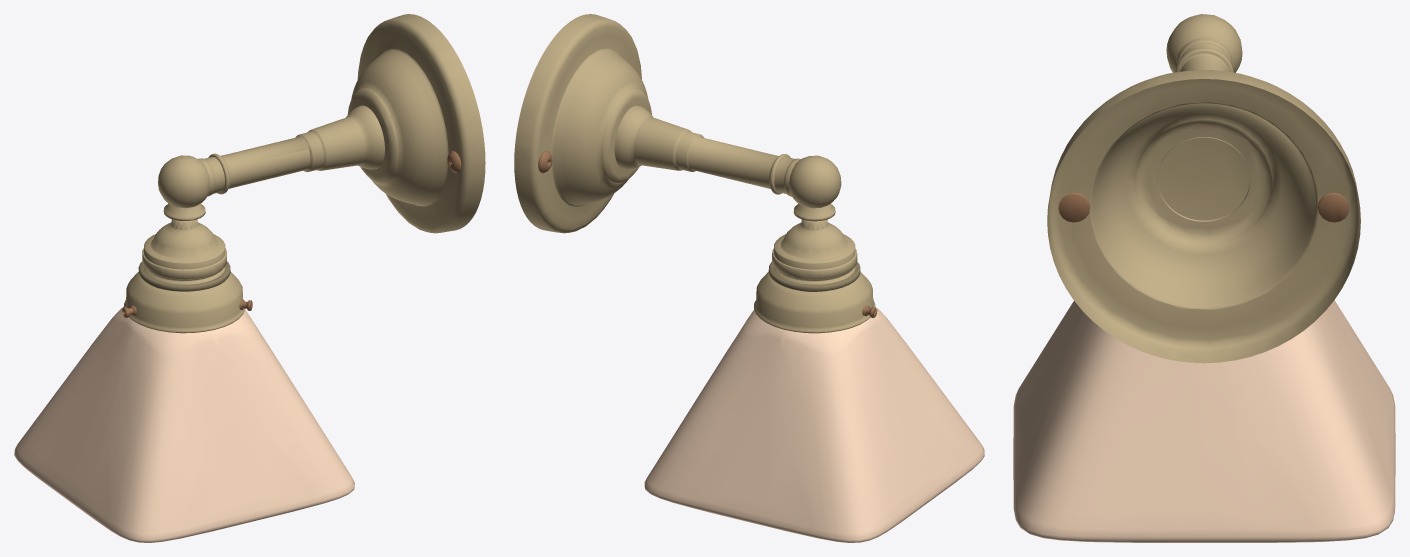
The model's file is WallLampSimpler.fbx.
The picture shows the model from 3 angles, left to right: view 1: azimuth 30°, elevation 25°; view 2: azimuth 150°, elevation 25°; view 3: azimuth 270°, elevation 25°; orthographic projection. The views are drawn at different scales.
Visible parts, largest first — view 1: Glass Shroud, Lamp Base, Main Body, Shaft, Joint, Thumb Wheel 2, Thumb Wheel 1; view 2: Glass Shroud, Lamp Base, Main Body, Shaft, Joint, Thumb Wheel 2, Thumb Wheel 1; view 3: Glass Shroud, Lamp Base, Joint, Shaft, Base Screws.
Part boxes in pixels (bbox=[...]): Glass Shroud: bbox=[14, 306, 354, 542]; Lamp Base: bbox=[347, 14, 485, 233]; Main Body: bbox=[124, 203, 245, 333]; Shaft: bbox=[198, 105, 384, 196]; Joint: bbox=[158, 155, 210, 208]; Thumb Wheel 2: bbox=[142, 248, 226, 279]; Thumb Wheel 1: bbox=[138, 261, 230, 291]; Glass Shroud: bbox=[644, 307, 984, 542]; Lamp Base: bbox=[514, 14, 651, 233]; Main Body: bbox=[754, 203, 875, 333]; Shaft: bbox=[614, 105, 800, 196]; Joint: bbox=[789, 155, 841, 208]; Thumb Wheel 2: bbox=[772, 248, 857, 279]; Thumb Wheel 1: bbox=[768, 261, 860, 291]; Glass Shroud: bbox=[1013, 300, 1395, 542]; Lamp Base: bbox=[1047, 70, 1360, 363]; Joint: bbox=[1166, 14, 1242, 72]; Shaft: bbox=[1157, 37, 1250, 221]; Base Screws: bbox=[1058, 193, 1349, 222].
Bounding box in the file's own units: 153 × 159 × 99.01.
